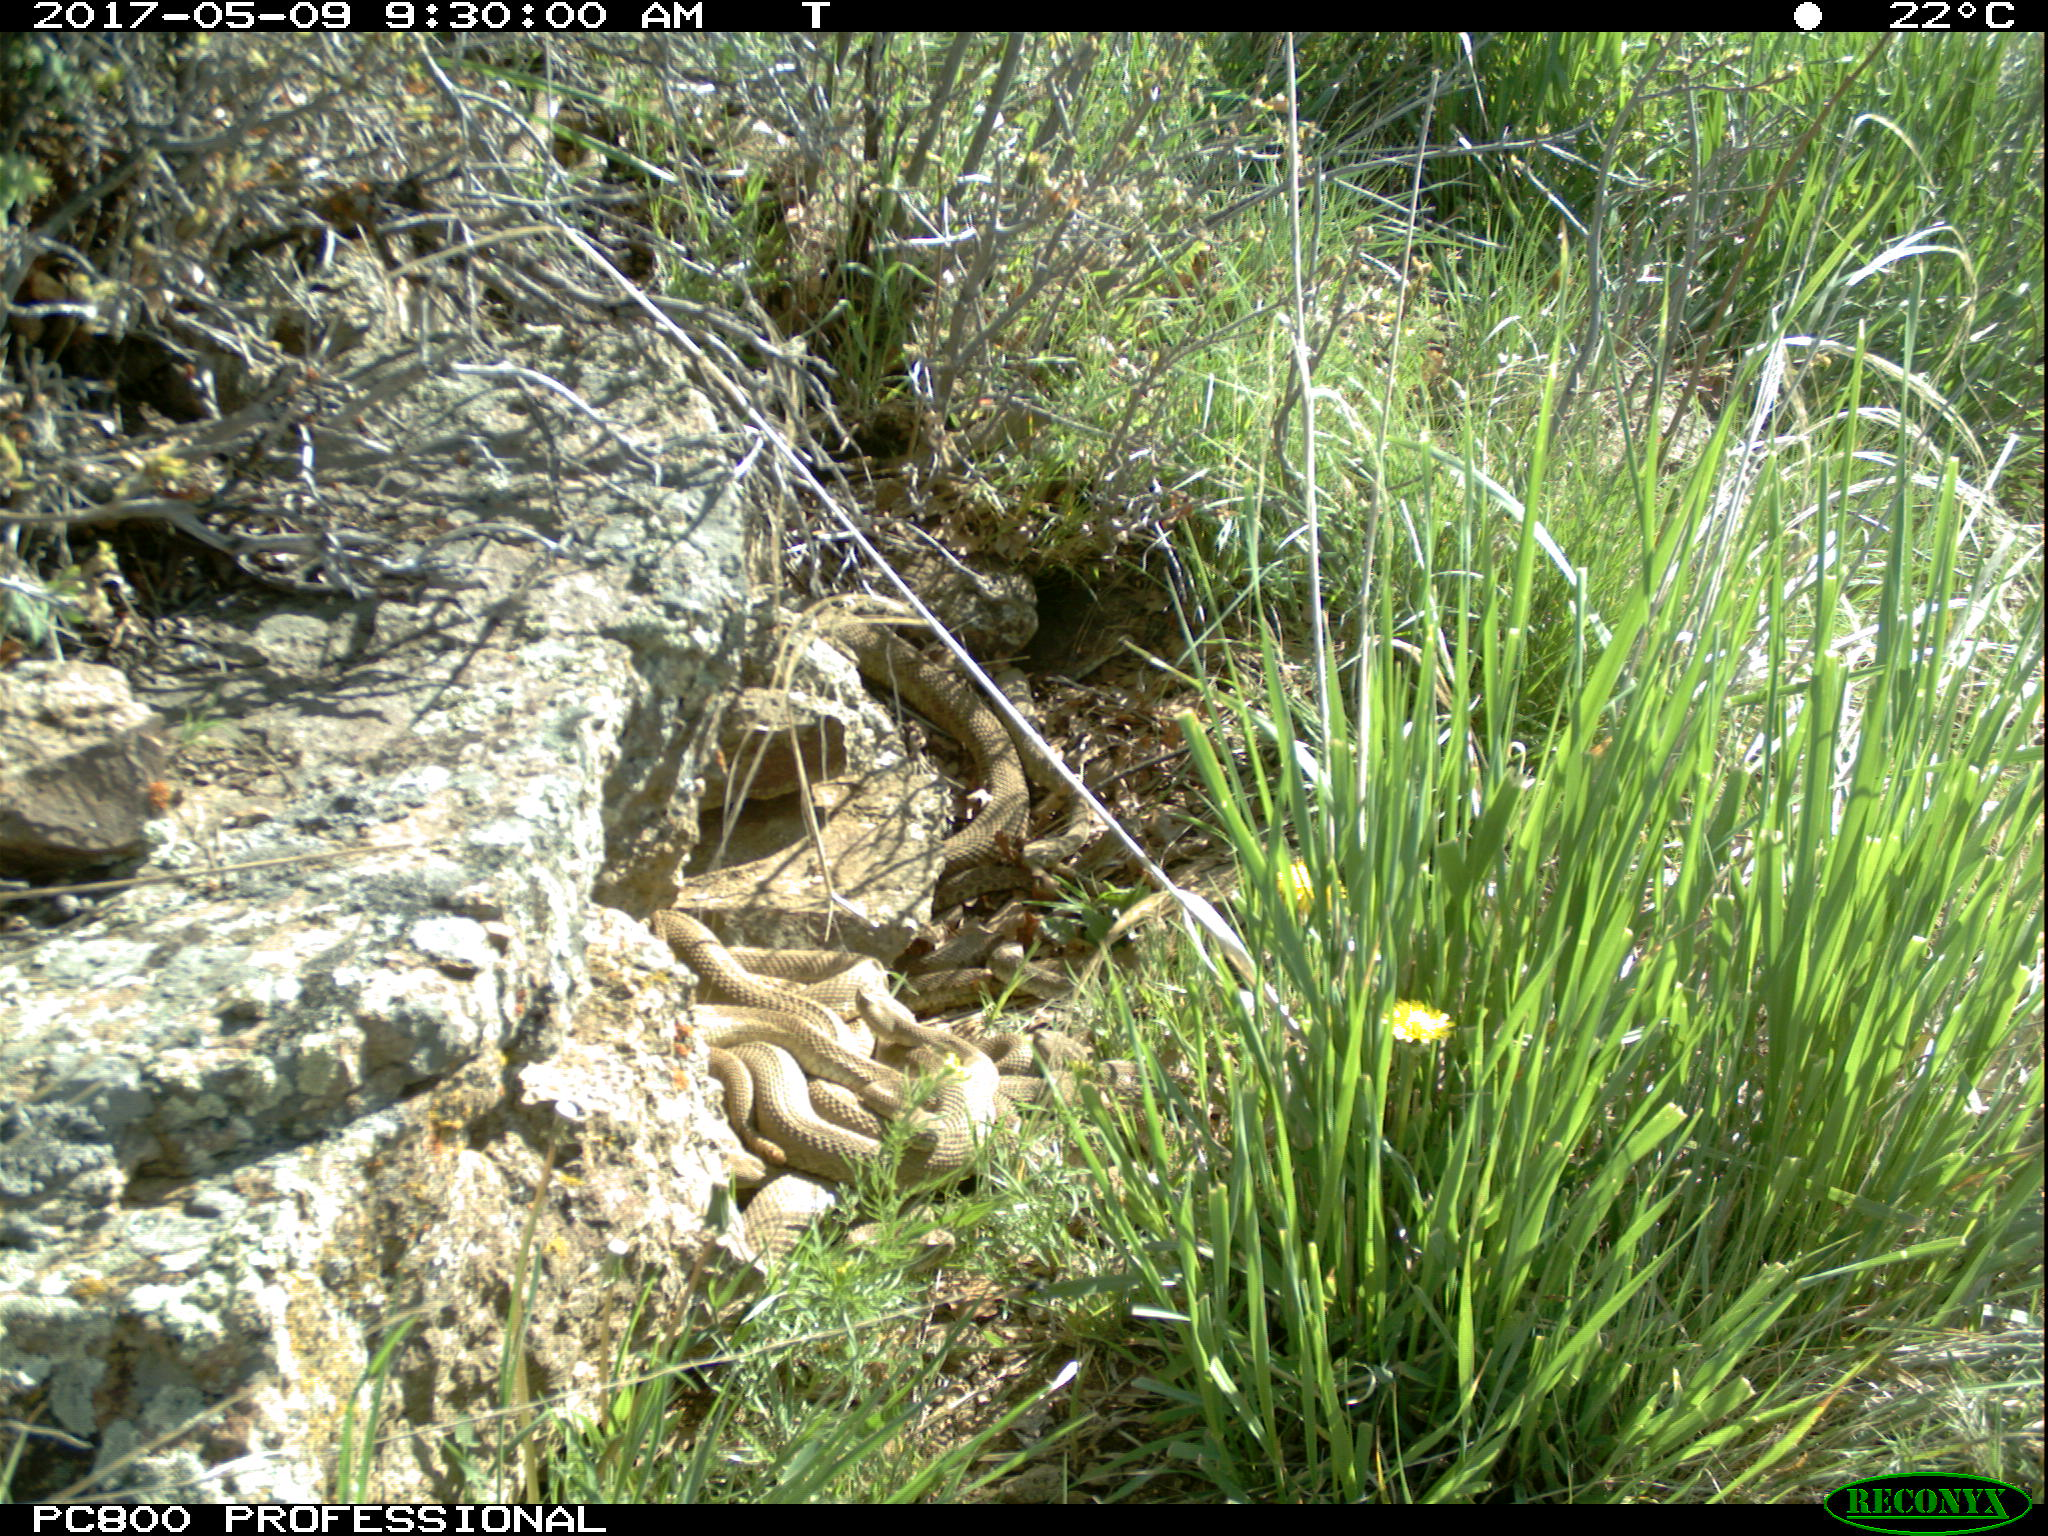snake: (660, 905, 1001, 1183), (830, 608, 1022, 863), (927, 950, 1156, 1123), (734, 1146, 851, 1276)
